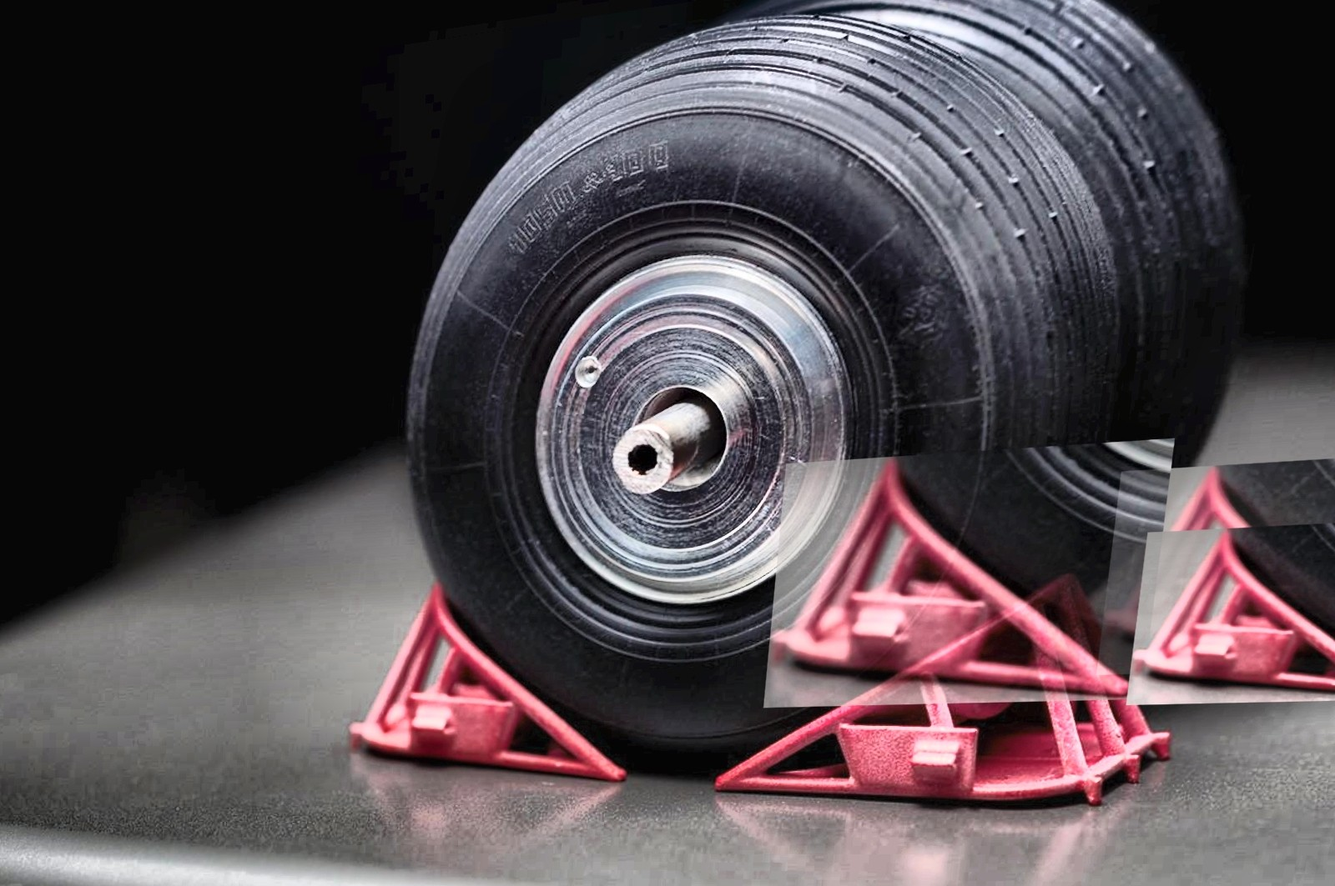chock: (712, 568, 1191, 809), (763, 438, 1175, 708), (345, 572, 652, 788), (1096, 451, 1335, 675), (1126, 518, 1335, 705)
wheel: (383, 0, 1177, 789), (590, 0, 1293, 723)
